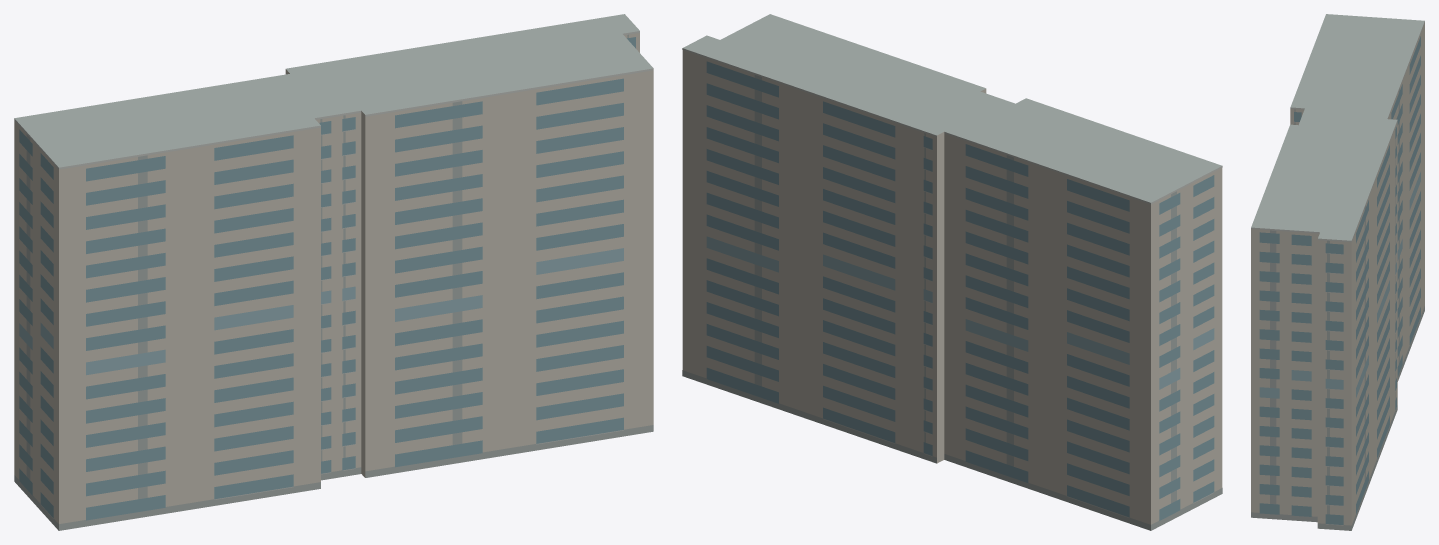
The model's file is residential-5a6bfed4-ecf9-46d2-b701-6971520fd35e.glb.
3 views of the same model, side by side, from view 1: azimuth 30°, elevation 25°; view 2: azimuth 150°, elevation 25°; view 3: azimuth 270°, elevation 25° (orthographic). The views are drawn at different scales.
Parts seen in each view (by area): view 1: residential-5a6bfed4-ecf9-46d2-b701-6971520fd35e.tmp; view 2: residential-5a6bfed4-ecf9-46d2-b701-6971520fd35e.tmp; view 3: residential-5a6bfed4-ecf9-46d2-b701-6971520fd35e.tmp.
Boxes of the visible parts, x1,y1,x2,y2 form: residential-5a6bfed4-ecf9-46d2-b701-6971520fd35e.tmp: (14,14,653,530); residential-5a6bfed4-ecf9-46d2-b701-6971520fd35e.tmp: (682,14,1222,530); residential-5a6bfed4-ecf9-46d2-b701-6971520fd35e.tmp: (1251,14,1424,530).
Size of the model in its own units: 76.7 by 45.75 by 24.86.
